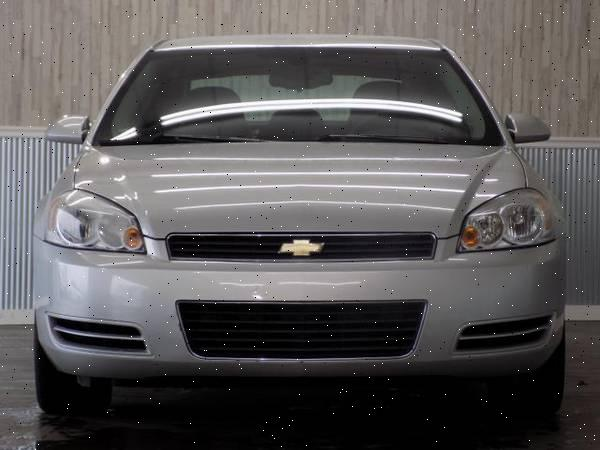Front_Bumper: (36, 228, 570, 371)
Front_Windshield: (91, 42, 507, 149)
Grille: (182, 298, 434, 369)
Hood: (66, 140, 534, 238)
Left_Headlight: (456, 191, 558, 253)
Left_Mirror: (507, 114, 552, 143)
Right_Headlight: (32, 187, 143, 251)
Right_Mirror: (46, 114, 91, 141)
Roof: (151, 31, 442, 50)
